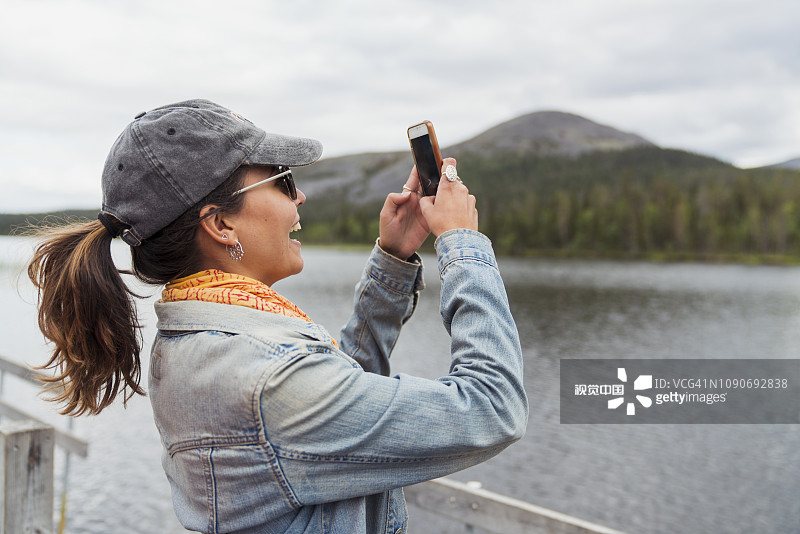taking photos: (353, 112, 507, 259)
